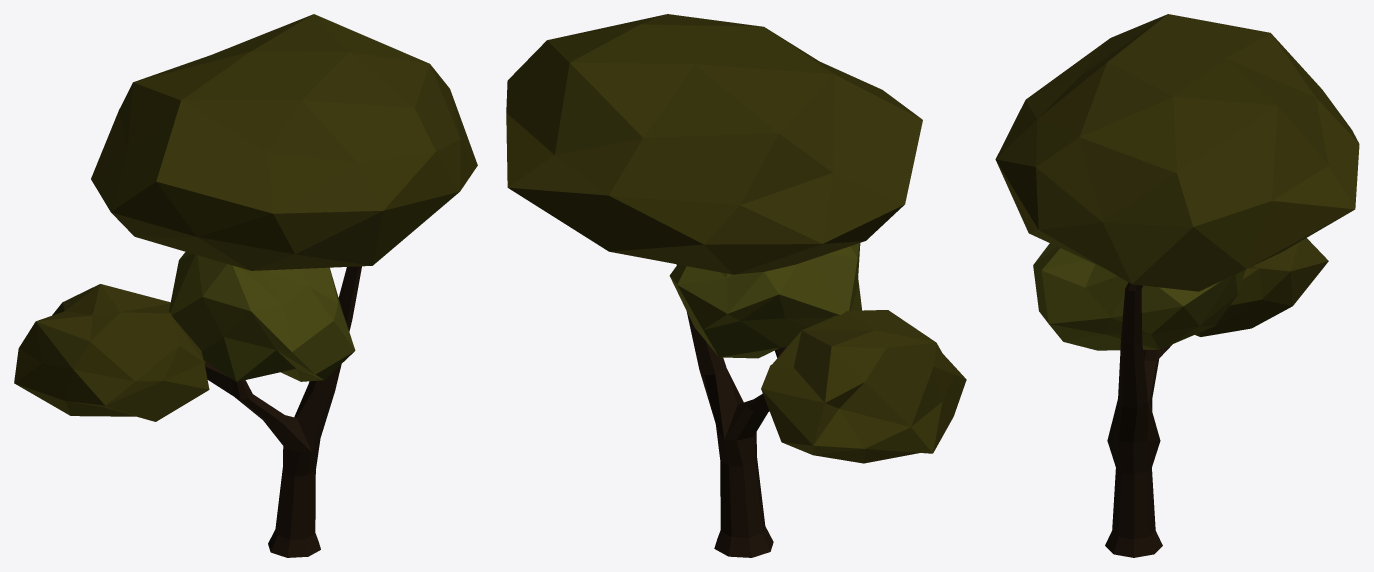
File: enchantedforest_tree_5.glb
3 renders of one model, left to right at view 1: azimuth 30°, elevation 25°; view 2: azimuth 150°, elevation 25°; view 3: azimuth 270°, elevation 25°, orthographic. The views are drawn at different scales.
Visible parts, largest first — view 1: Icosphere.012.1, Cylinder.018.2; view 2: Icosphere.012.1, Cylinder.018.2; view 3: Icosphere.012.1, Cylinder.018.2.
Boxes of the visible parts, x1,y1,x2,y2 form: Icosphere.012.1: [14, 14, 477, 421]; Cylinder.018.2: [205, 266, 361, 557]; Icosphere.012.1: [506, 14, 966, 463]; Cylinder.018.2: [676, 264, 786, 557]; Icosphere.012.1: [995, 14, 1359, 350]; Cylinder.018.2: [1105, 282, 1172, 557].
Bounding box in the file's own units: 5.27 × 5.71 × 3.86.
